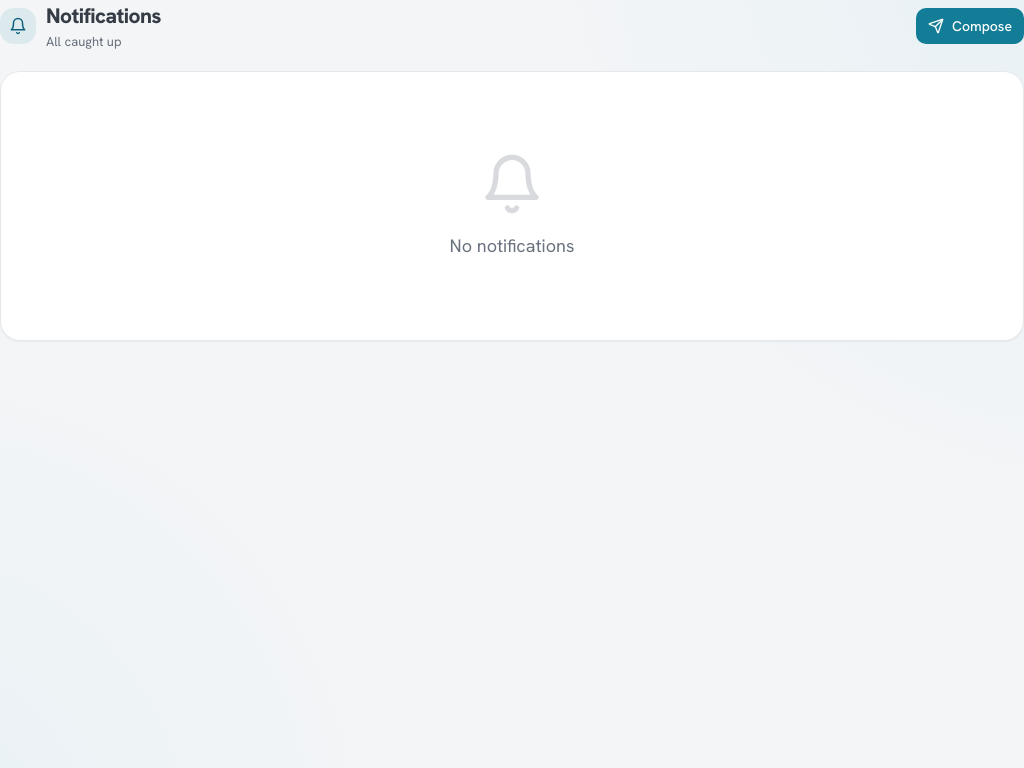
Scenario: Notifications channel segmented-control a11y (#226) › announces the active channel via aria-pressed
Click the button "Compose".
click(970, 26)  # box x1=916 y1=8 x2=1023 y2=44
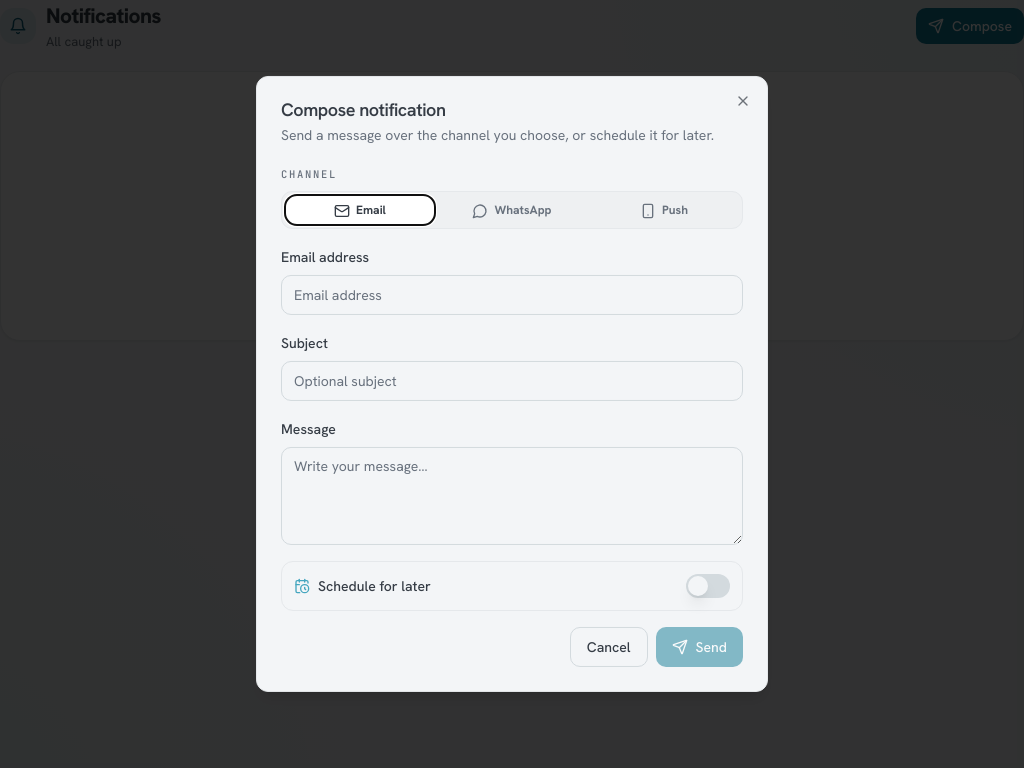
Now the button "Email" is shown, box x1=285 y1=195 x2=435 y2=225
Now the button "WhatsApp" is shown, box x1=437 y1=195 x2=587 y2=225
Now the button "Push" is shown, box x1=589 y1=195 x2=739 y2=225
